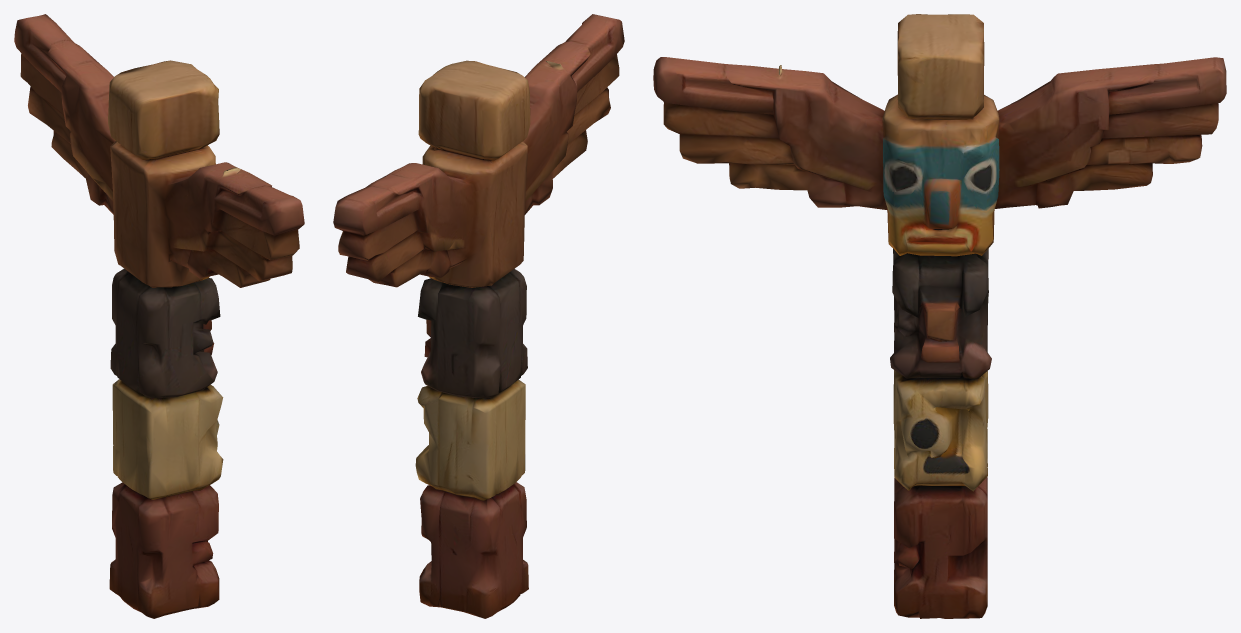
The model's file is totem-pole.glb.
The picture shows the model from 3 angles, left to right: view 1: azimuth 30°, elevation 25°; view 2: azimuth 150°, elevation 25°; view 3: azimuth 270°, elevation 25°; orthographic projection. The views are drawn at different scales.
Parts seen in each view (by area): view 1: tripo_node_7275d8eb-54c8-4a22-8f7d-ffff5c28e389; view 2: tripo_node_7275d8eb-54c8-4a22-8f7d-ffff5c28e389; view 3: tripo_node_7275d8eb-54c8-4a22-8f7d-ffff5c28e389.
Boxes of the visible parts, bbox=[...] form: tripo_node_7275d8eb-54c8-4a22-8f7d-ffff5c28e389: bbox=[14, 14, 304, 618]; tripo_node_7275d8eb-54c8-4a22-8f7d-ffff5c28e389: bbox=[333, 14, 624, 618]; tripo_node_7275d8eb-54c8-4a22-8f7d-ffff5c28e389: bbox=[653, 14, 1226, 618].
Bounding box in the file's own units: 0.1841 × 1 × 0.914.
Materials: 1 (1 with a texture image).
